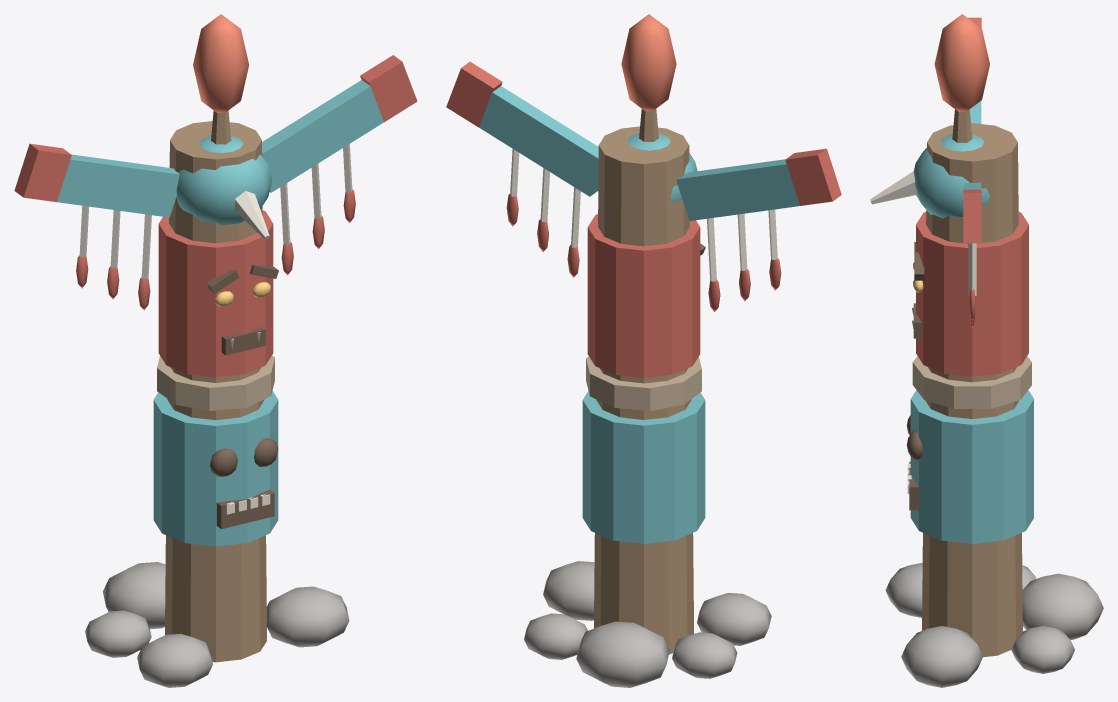
File: Totem_Wrath.gltf
The picture shows the model from 3 angles, left to right: view 1: azimuth 30°, elevation 25°; view 2: azimuth 150°, elevation 25°; view 3: azimuth 270°, elevation 25°; orthographic projection.
Parts seen in each view (by area): view 1: Totem_Wrath; view 2: Totem_Wrath; view 3: Totem_Wrath.
Boxes of the visible parts, x1,y1,x2,y2 form: Totem_Wrath: (14, 14, 417, 687); Totem_Wrath: (446, 14, 841, 687); Totem_Wrath: (870, 14, 1103, 687).
Size of the model in its own units: 0.8894 by 1.38 by 0.4625.
